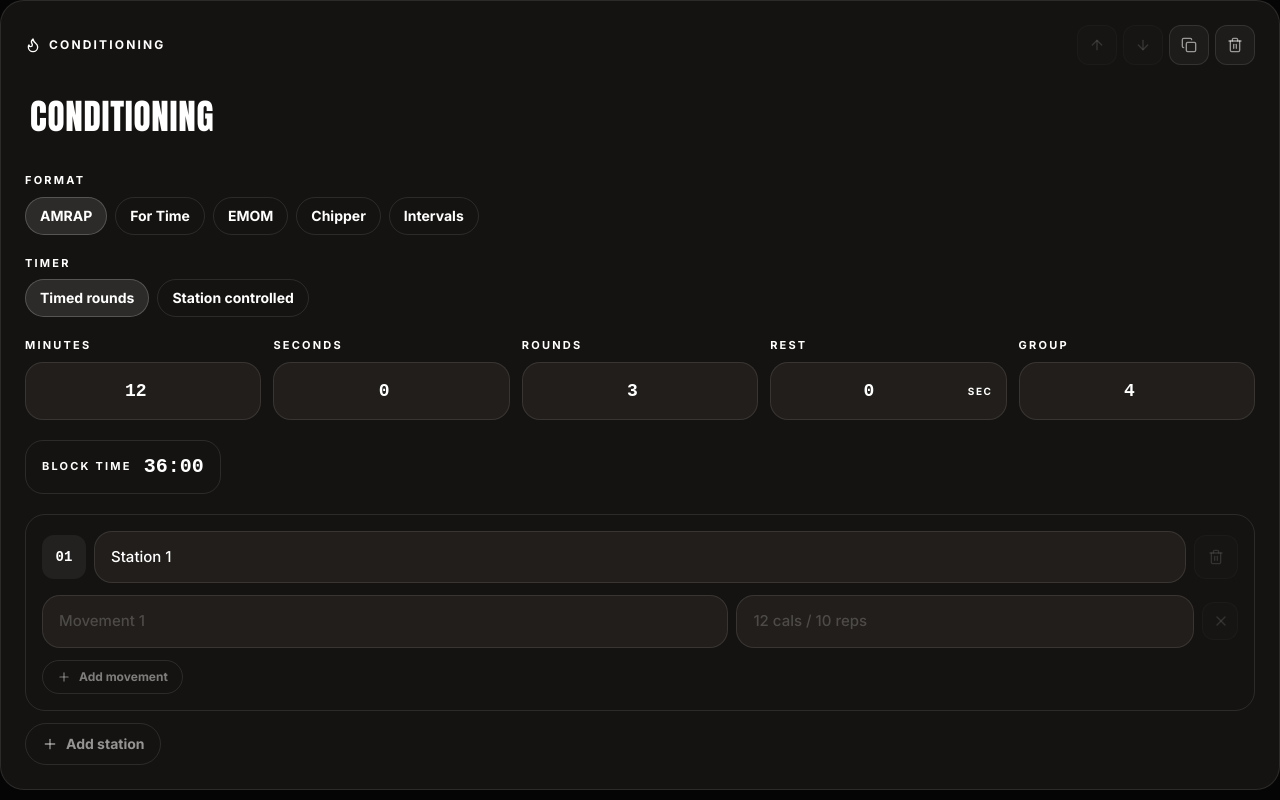
Test: conditioning number fields › settles on the saved value when the field is left empty
Clear the number field labelled "Rounds". click: (640, 390)
box: [522,362,758,420]
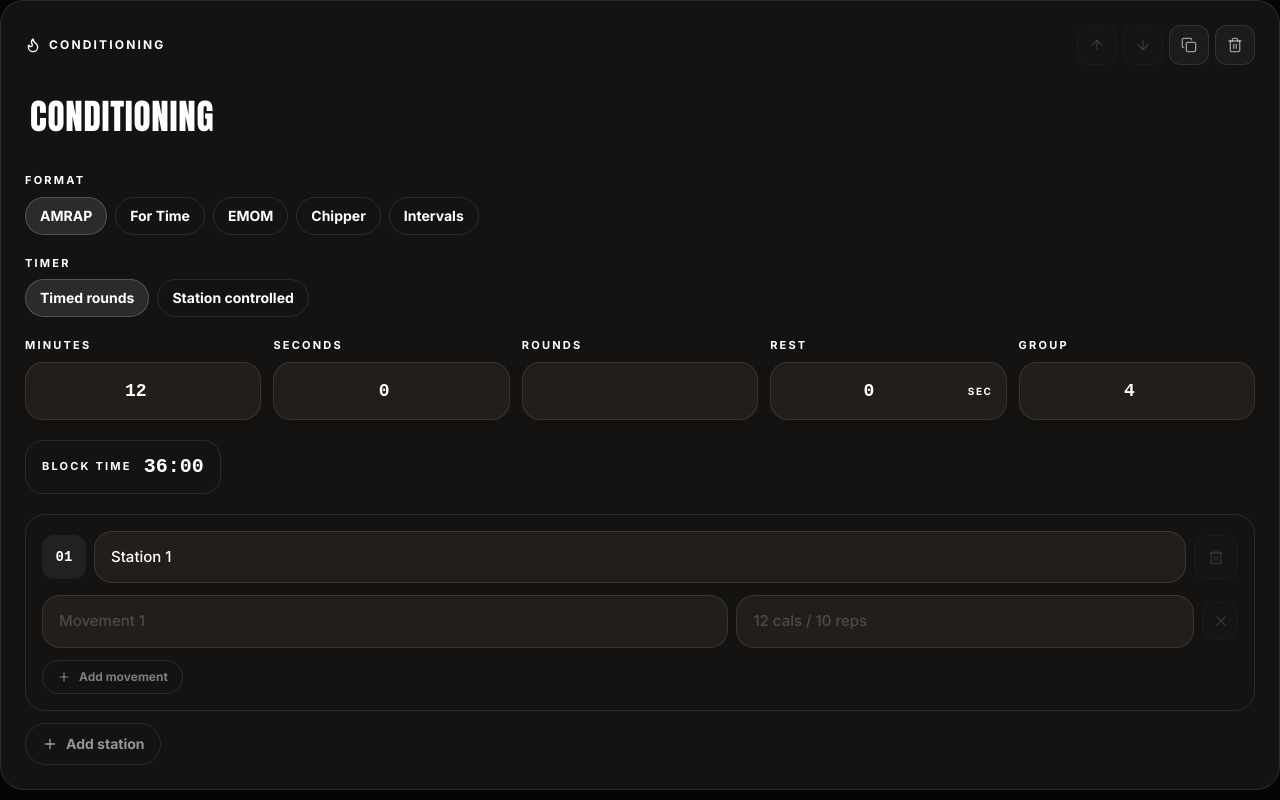
Leave the number field labelled "Rounds", box [522,362,758,420]
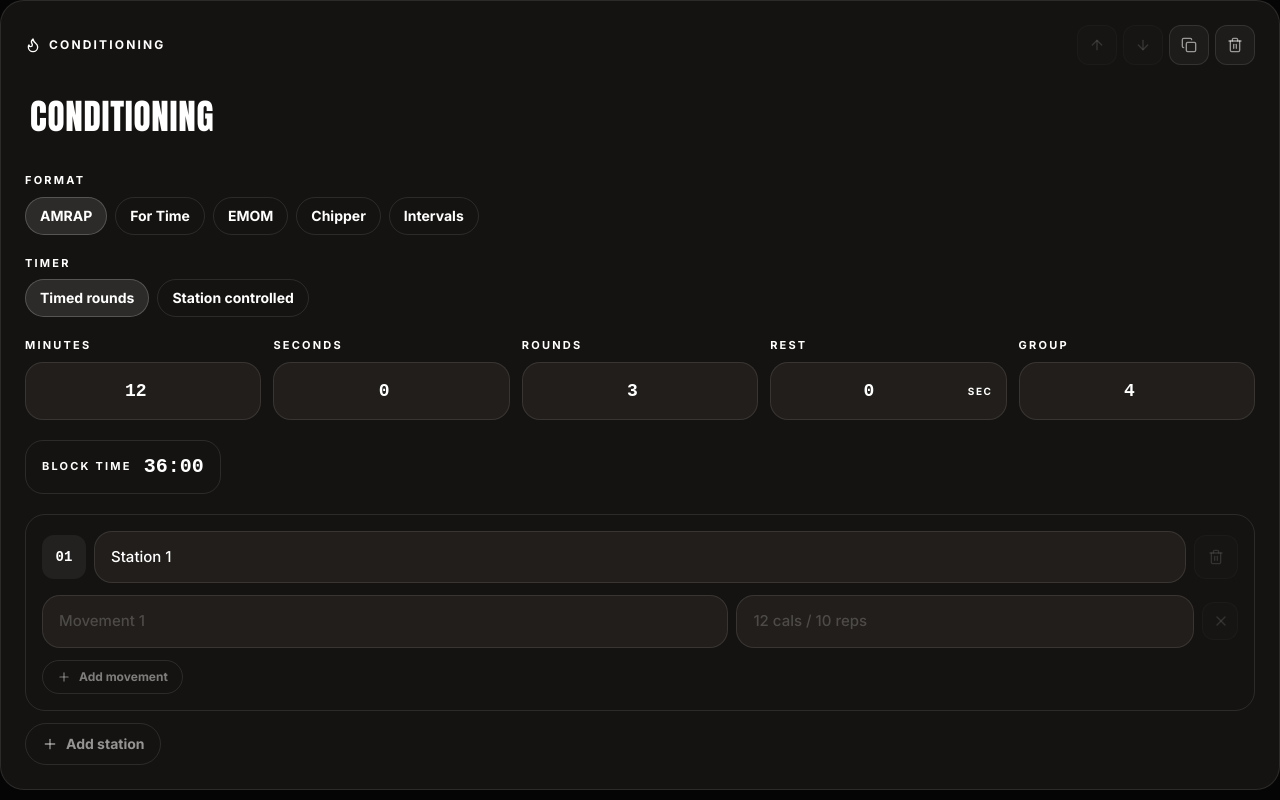
Expected: the number field labelled "Rounds" holds "3", [522,362,758,420]
